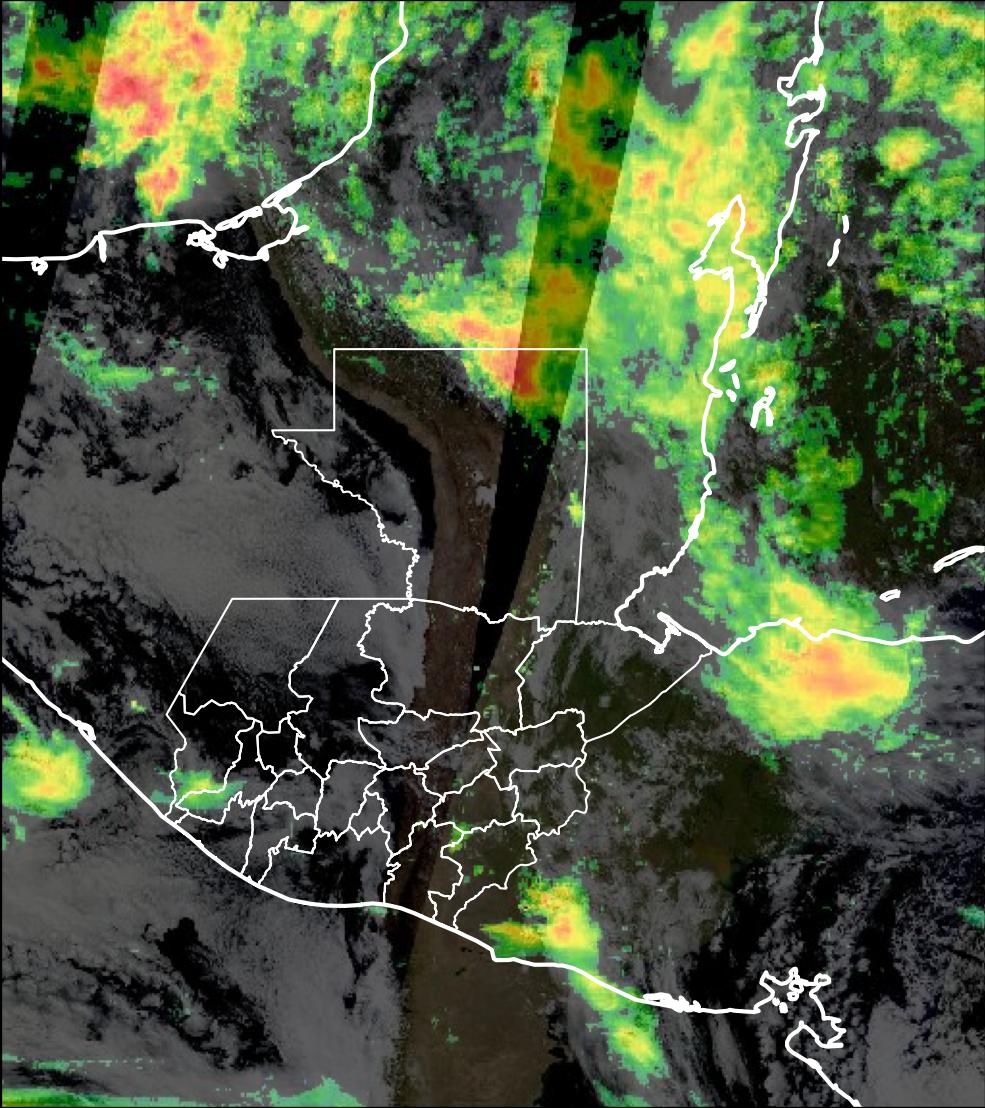precipitacion: (85, 4, 238, 160), (447, 304, 563, 406), (779, 642, 875, 714)
